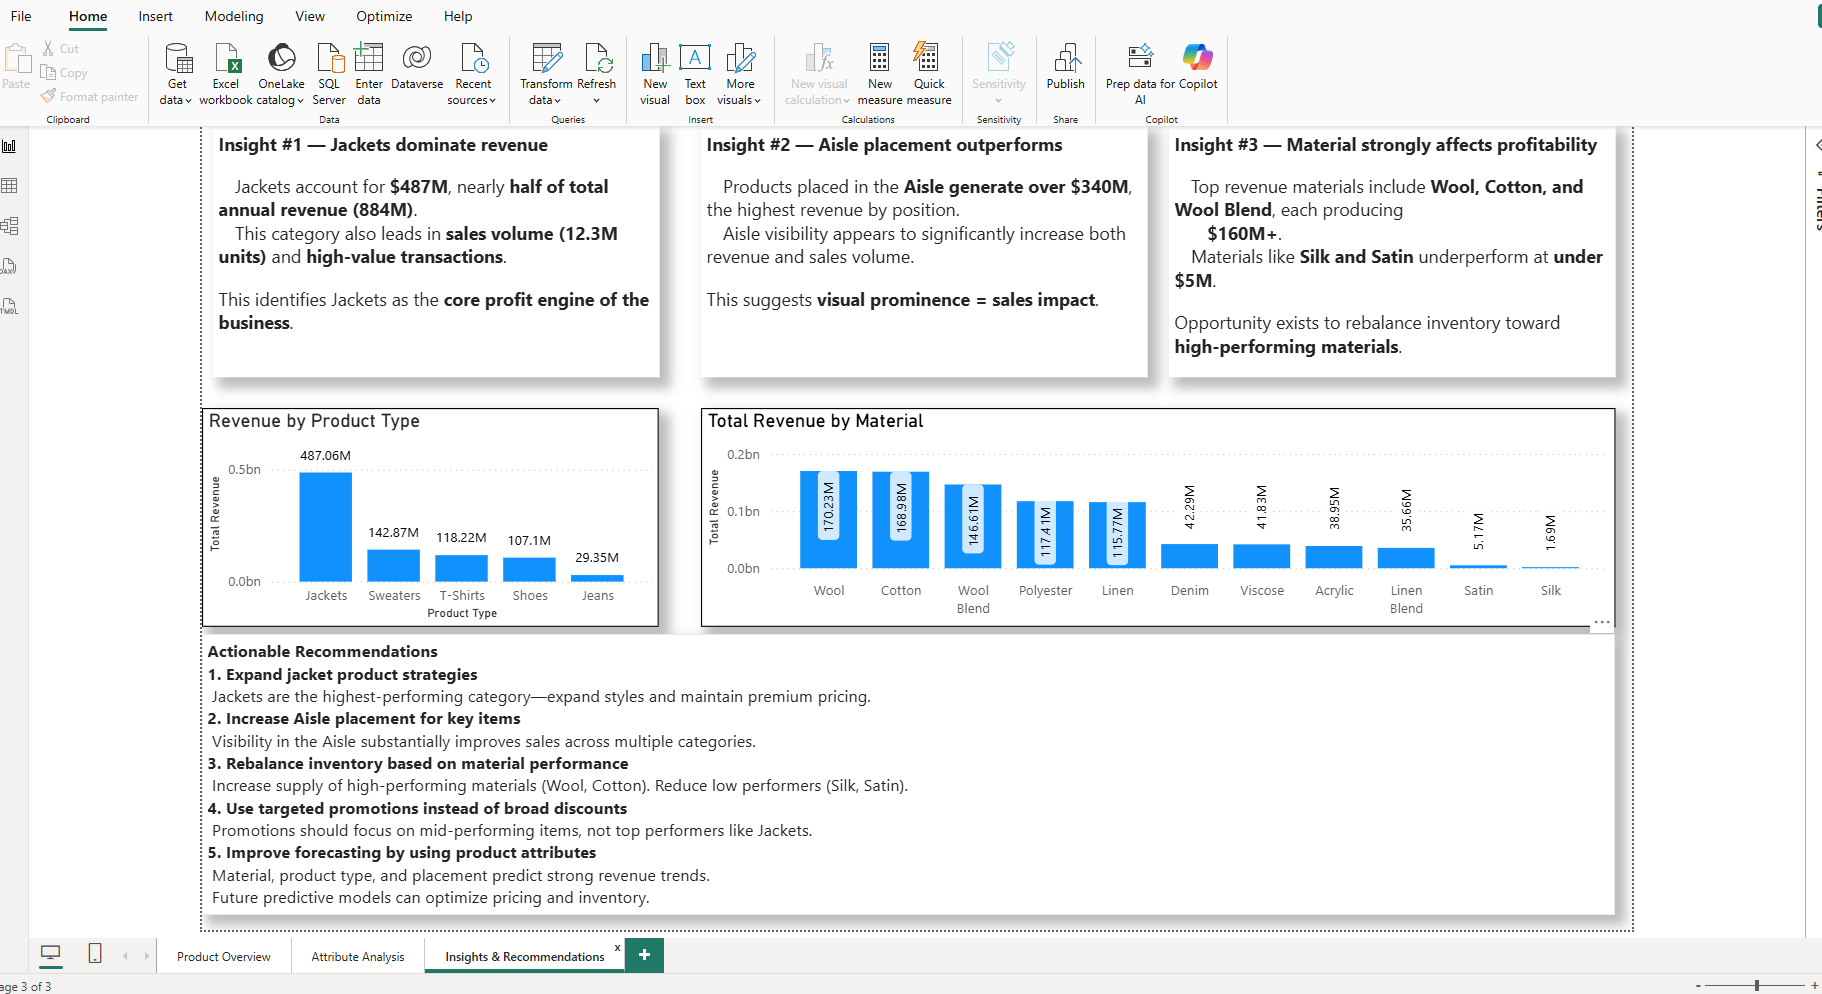

The dashboard page shown, as its layout file describes it:
{"tool":"powerbi","page":{"name":"Insights & Recommendations","canvas":[1280,720],"ordinal":2},"visuals":[{"type":"textbox","box":[9.7,0,400,225],"z":0},{"type":"textbox","box":[446.4,0,400,225],"z":1},{"type":"textbox","box":[865.7,0,400,225],"z":2},{"type":"clusteredColumnChart","title":"Revenue by Product Type","fields":{"Category":["Business_sales_EDA.Product Type"],"Y":["Business_sales_EDA.Total Revenue"]},"box":[0,252.9,409.5,195.5],"z":3},{"type":"clusteredColumnChart","title":"Total Revenue by Material","fields":{"Category":["Business_sales_EDA.material"],"Y":["Business_sales_EDA.Total Revenue"]},"box":[446.4,252.9,819,195.5],"z":4},{"type":"textbox","box":[0,455.2,1265.4,250.9],"z":5}]}

Visuals, with their boxes on the page's 1280x720 design canvas (x1, y1, x2, y2). These are canvas units, not pixel positions in the 1822x994 screenshot, which may show the page scaled, cropped or inside an application window:
textbox: [left=10, top=0, right=410, bottom=225]
textbox: [left=446, top=0, right=846, bottom=225]
textbox: [left=866, top=0, right=1266, bottom=225]
"Revenue by Product Type" clusteredColumnChart: [left=0, top=253, right=410, bottom=448]
"Total Revenue by Material" clusteredColumnChart: [left=446, top=253, right=1265, bottom=448]
textbox: [left=0, top=455, right=1265, bottom=706]
